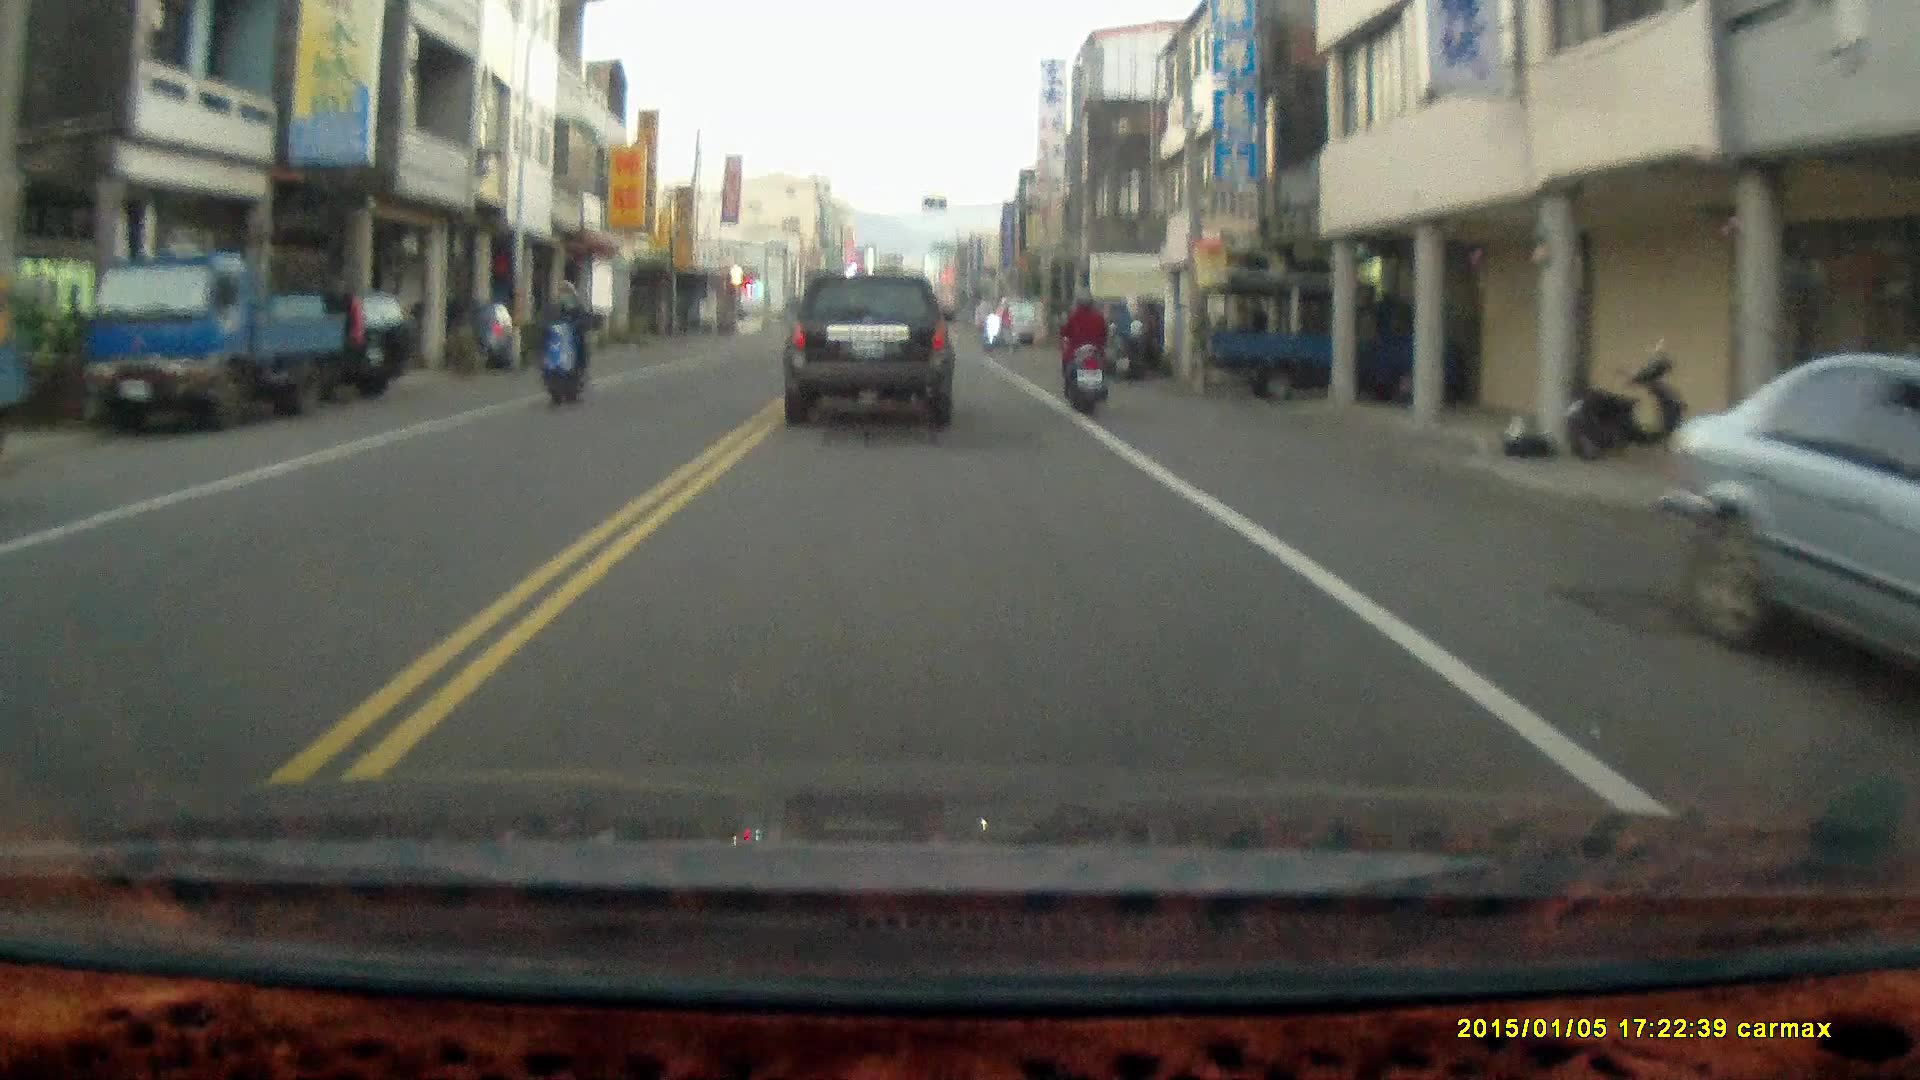rider: (1057, 285, 1109, 418), (535, 287, 589, 409), (979, 301, 1018, 350)
vehicle: (1667, 352, 1920, 692), (76, 252, 345, 437), (1200, 270, 1467, 405), (781, 260, 957, 425), (244, 289, 420, 402), (379, 296, 522, 377)
